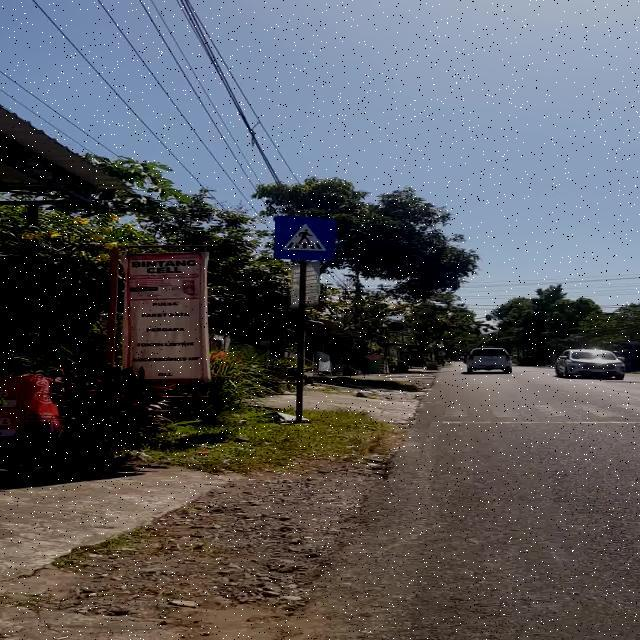Perintah Jalur Penyebrangan: (274, 216, 336, 260)
